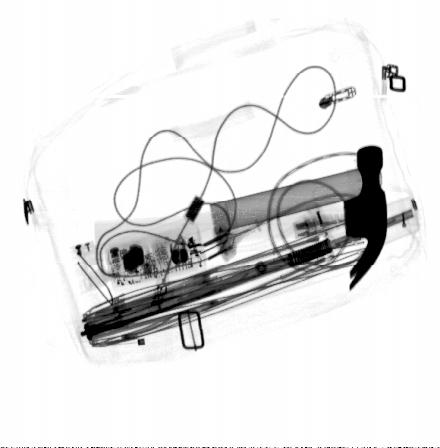Hammer: (92, 144, 389, 293)
